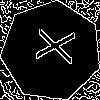X: (26, 26, 76, 65)
